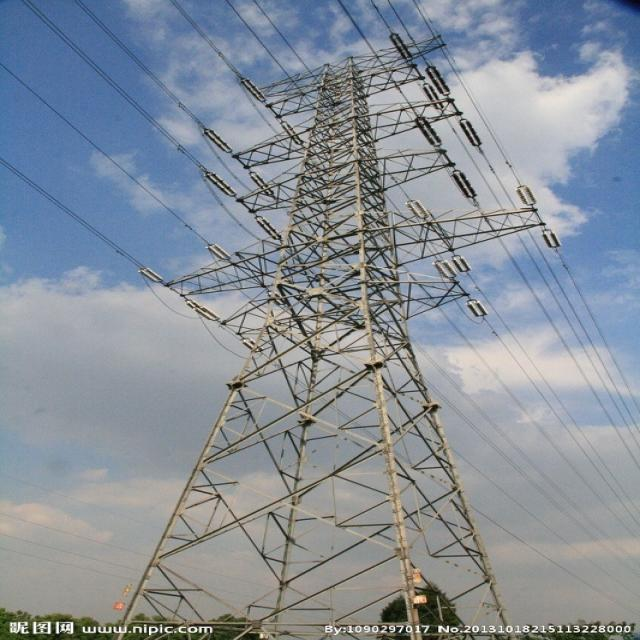non-critical vegetation: (97, 34, 542, 588)
